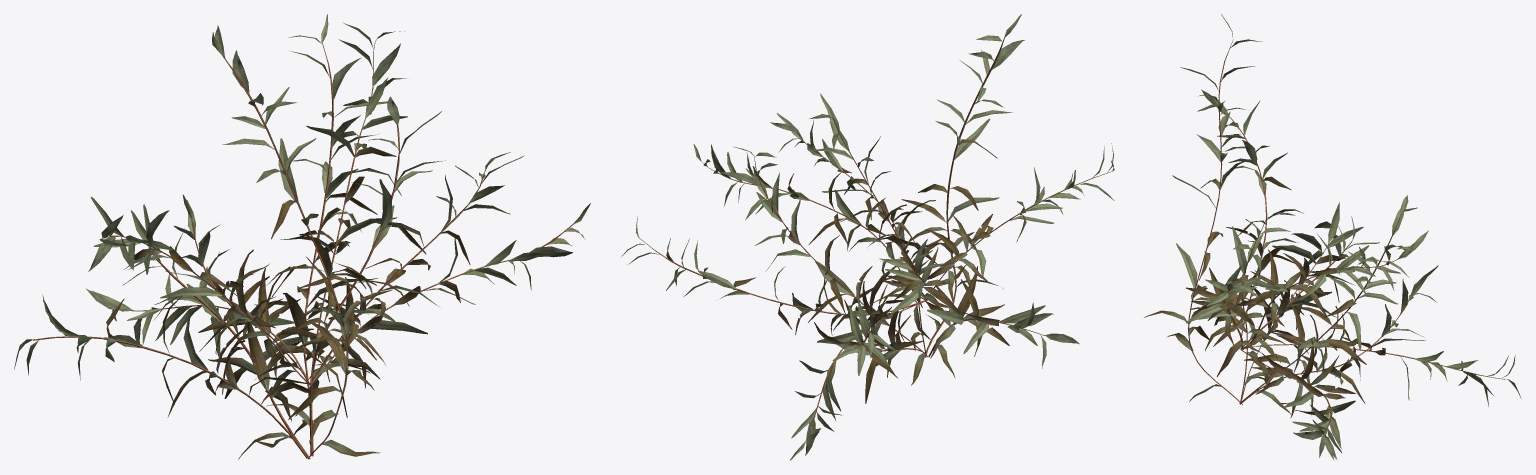
Rendered from m-shrubs-v21.glb.
3 views of the same model, side by side, from view 1: azimuth 30°, elevation 25°; view 2: azimuth 150°, elevation 25°; view 3: azimuth 270°, elevation 25° (orthographic). The views are drawn at different scales.
Visible parts, largest first — view 1: shrub_02_c_LOD2, shrub_02_a_LOD2; view 2: shrub_02_a_LOD2, shrub_02_c_LOD2; view 3: shrub_02_c_LOD2, shrub_02_a_LOD2.
Part boxes in pixels (<box>): shrub_02_c_LOD2: <box>86,22,590,416</box>; shrub_02_a_LOD2: <box>14,14,444,459</box>; shrub_02_a_LOD2: <box>719,14,1079,403</box>; shrub_02_c_LOD2: <box>621,113,1114,460</box>; shrub_02_c_LOD2: <box>1186,89,1521,460</box>; shrub_02_a_LOD2: <box>1144,14,1438,415</box>.
Size of the model in its own units: 1.81 by 1.39 by 1.34.
Materials: 1 (1 with a texture image).
